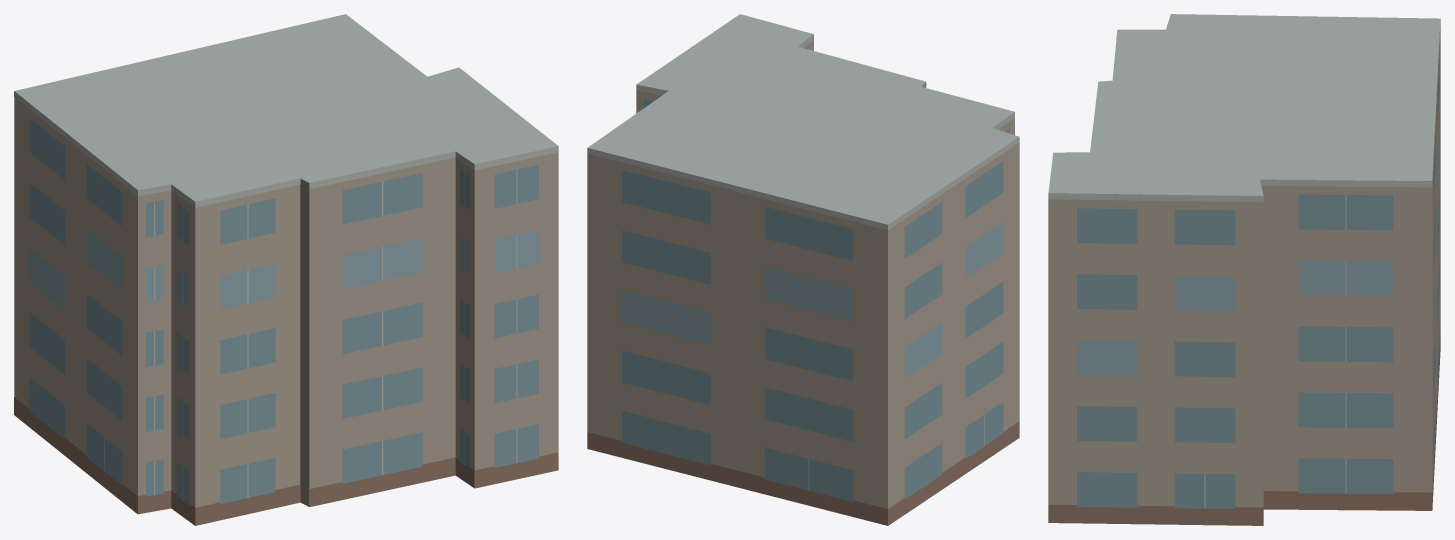
The model's file is survey-upis-32499305.glb.
3 renders of one model, left to right at view 1: azimuth 30°, elevation 25°; view 2: azimuth 150°, elevation 25°; view 3: azimuth 270°, elevation 25°, orthographic. The views are drawn at different scales.
Visible parts, largest first — view 1: survey-upis-32499305.tmp; view 2: survey-upis-32499305.tmp; view 3: survey-upis-32499305.tmp.
Part boxes in pixels (x1,y1,x2,y2): survey-upis-32499305.tmp: (14, 14, 558, 525); survey-upis-32499305.tmp: (587, 14, 1019, 525); survey-upis-32499305.tmp: (1048, 14, 1440, 525).
Bounding box in the file's own units: 15.41 × 13 × 14.02.
